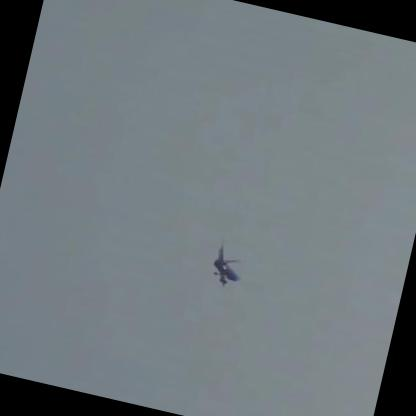plane: (208, 242, 246, 291)
